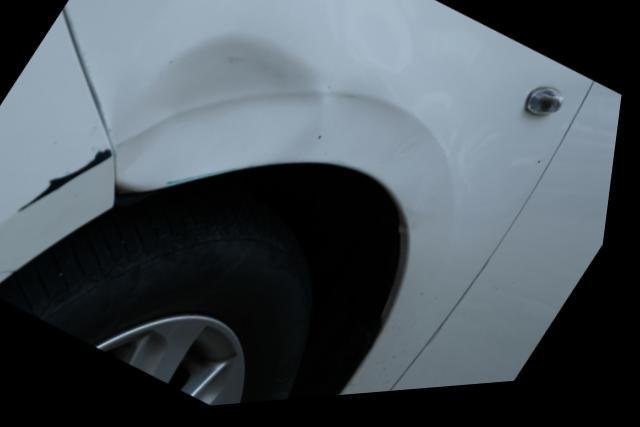dent: (127, 36, 410, 190)
scratch: (19, 150, 120, 215)
